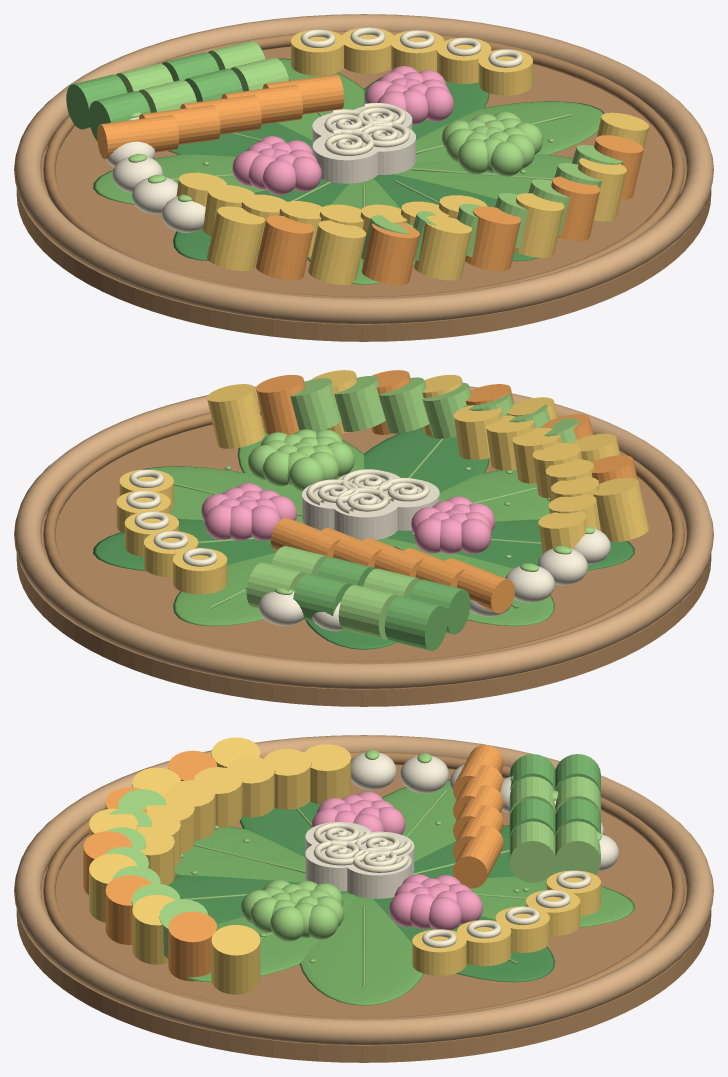
The model's file is jajanan-ubah-persen.glb.
3 views of the same model, one above another, from view 1: azimuth 30°, elevation 25°; view 2: azimuth 150°, elevation 25°; view 3: azimuth 270°, elevation 25° (orthographic).
Parts seen in each view (by area): view 1: Tray outer rounded bamboo rim, Tray base, Tray inner bamboo rim, Banana leaf 00, Banana leaf 08, Outer orange snack 00, Outer orange snack 01, Outer orange snack 02, Outer orange snack 04, Outer orange snack 03, Outer orange snack 05, Banana leaf 04 (+61 smaller); view 2: Tray base, Tray outer rounded bamboo rim, Tray inner bamboo rim, Banana leaf 07, Banana leaf 02, Banana leaf 05, Banana leaf 06, Banana leaf 00, Outer orange snack 10, Banana leaf 01, Outer orange snack 00, Upper pandan roll 04 (+63 smaller); view 3: Tray base, Tray outer rounded bamboo rim, Banana leaf 00, Tray inner bamboo rim, Banana leaf 06, Banana leaf 04, Outer orange snack 10, Banana leaf 02, Outer orange snack 09, Banana leaf 07, Banana leaf 01, Upper pandan roll 03 (+56 smaller).
Boxes of the visible parts, x1,y1,x2,y2 form: Tray outer rounded bamboo rim: (14, 14, 713, 323); Tray base: (16, 46, 711, 341); Tray inner bamboo rim: (43, 31, 684, 298); Banana leaf 00: (416, 101, 604, 162); Banana leaf 08: (394, 154, 572, 198); Outer orange snack 00: (207, 206, 264, 271); Outer orange snack 01: (255, 215, 313, 280); Outer orange snack 02: (308, 220, 366, 284); Outer orange snack 04: (414, 215, 472, 280); Outer orange snack 03: (361, 223, 419, 284); Outer orange snack 05: (465, 206, 520, 271); Banana leaf 04: (93, 154, 266, 204); Tray base: (16, 415, 711, 706); Tray outer rounded bamboo rim: (14, 381, 713, 688); Tray inner bamboo rim: (43, 403, 684, 663); Banana leaf 07: (364, 427, 489, 492); Banana leaf 02: (173, 553, 275, 626); Banana leaf 05: (386, 519, 634, 570); Banana leaf 06: (439, 470, 549, 521); Banana leaf 00: (142, 466, 305, 524); Outer orange snack 10: (207, 384, 264, 448); Banana leaf 01: (93, 519, 276, 571); Outer orange snack 00: (593, 477, 648, 542); Upper pandan roll 04: (384, 596, 447, 650); Tray base: (16, 764, 711, 1062); Tray outer rounded bamboo rim: (14, 735, 713, 1044); Banana leaf 00: (299, 896, 423, 1005); Tray inner bamboo rim: (43, 751, 684, 1019); Banana leaf 06: (175, 826, 306, 882); Banana leaf 04: (382, 779, 456, 861); Outer orange snack 10: (211, 925, 260, 994); Banana leaf 02: (470, 876, 634, 927); Outer orange snack 09: (168, 911, 217, 981); Banana leaf 07: (168, 875, 349, 923); Banana leaf 01: (373, 897, 554, 982); Upper pandan roll 03: (509, 821, 555, 882).
Size of the model in its own units: 5.14 by 0.634 by 5.14.
